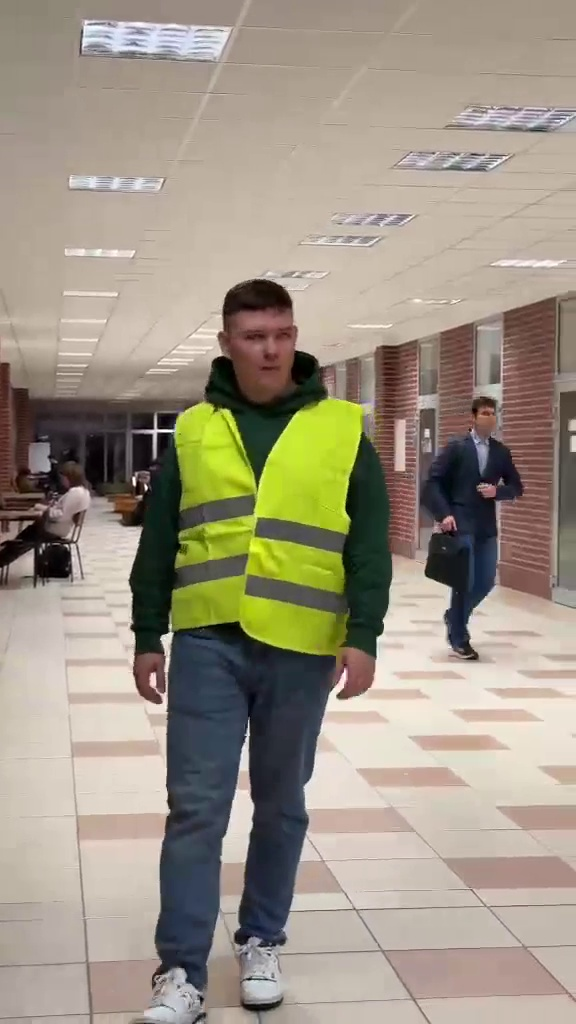no vest: (414, 378, 527, 635), (0, 461, 90, 577)
vest: (135, 279, 390, 1010)
